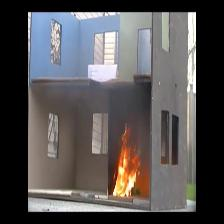fire: (115, 142, 140, 199)
smoke: (114, 85, 152, 119)
